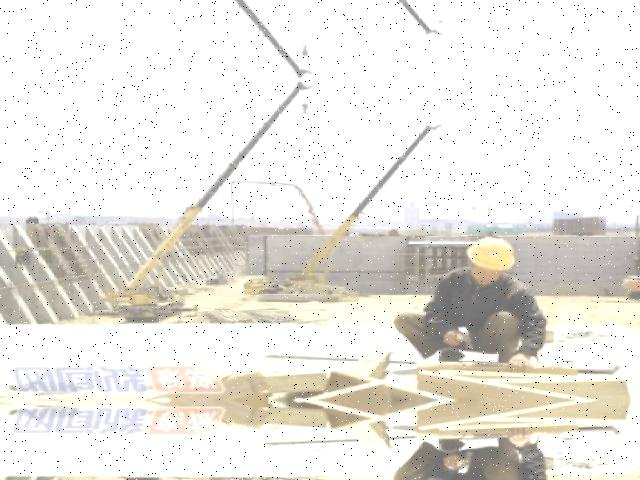Helmet: (461, 230, 526, 274)
